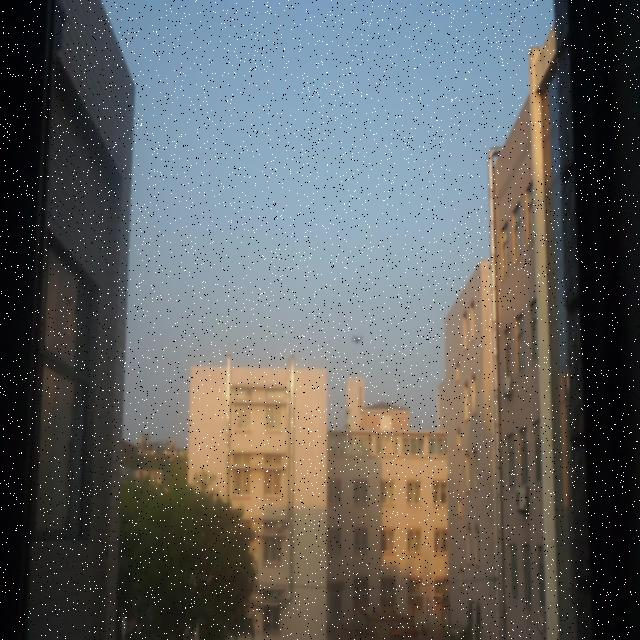UAV: (352, 335, 362, 344)
